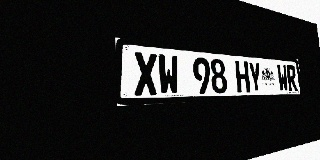8: (210, 58, 227, 93)
9: (193, 57, 212, 94)
H: (235, 60, 250, 93)
R: (286, 65, 298, 91)
W: (157, 54, 180, 95), (276, 64, 289, 92)
X: (133, 52, 158, 96)
Y: (248, 62, 262, 92)
